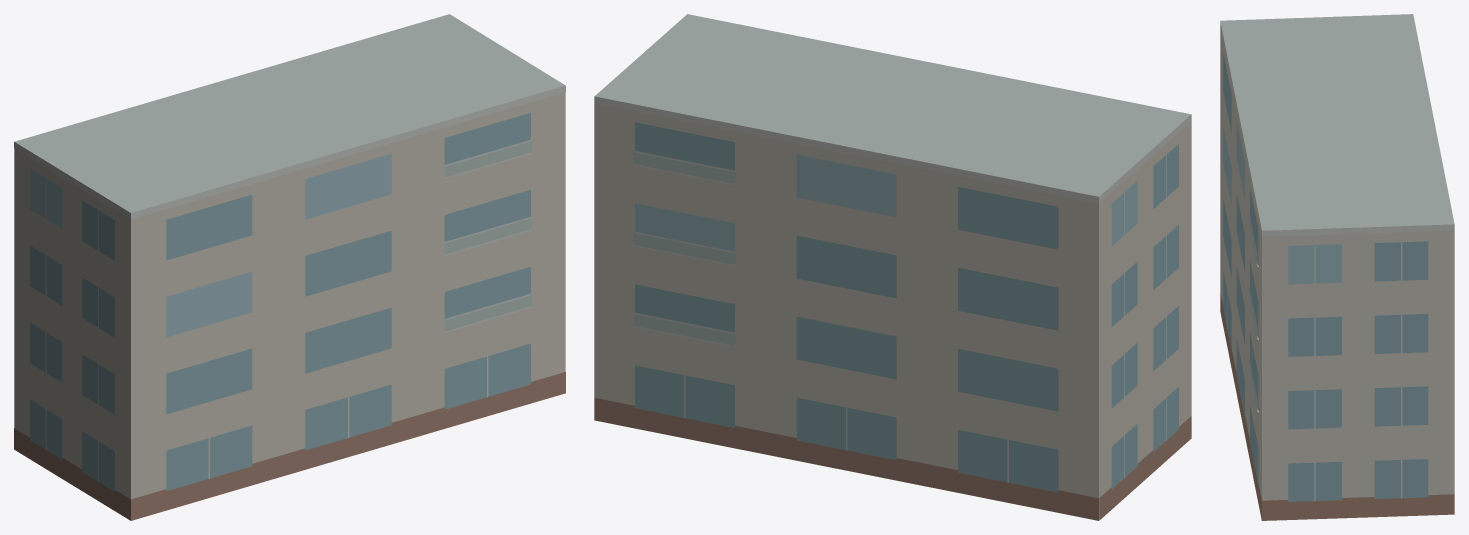
File: survey-upis-32821029.glb
3 renders of one model, left to right at view 1: azimuth 30°, elevation 25°; view 2: azimuth 150°, elevation 25°; view 3: azimuth 270°, elevation 25°, orthographic. The views are drawn at different scales.
Parts seen in each view (by area): view 1: survey-upis-32821029.tmp; view 2: survey-upis-32821029.tmp; view 3: survey-upis-32821029.tmp.
Part boxes in pixels (x1,y1,x2,y2): survey-upis-32821029.tmp: [14, 14, 565, 520]; survey-upis-32821029.tmp: [594, 14, 1191, 520]; survey-upis-32821029.tmp: [1220, 14, 1454, 520].
Size of the model in its own units: 18.28 by 11.4 by 8.36.
